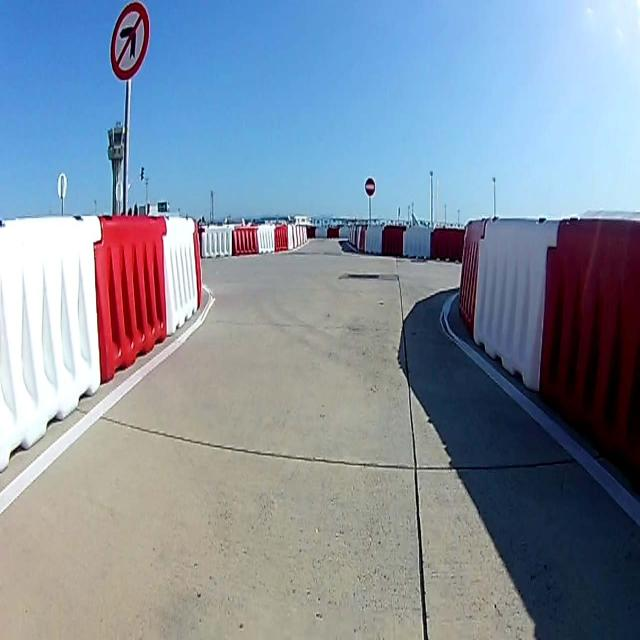girisyok: (364, 175, 376, 198)
soladonulmez: (111, 3, 149, 76)
